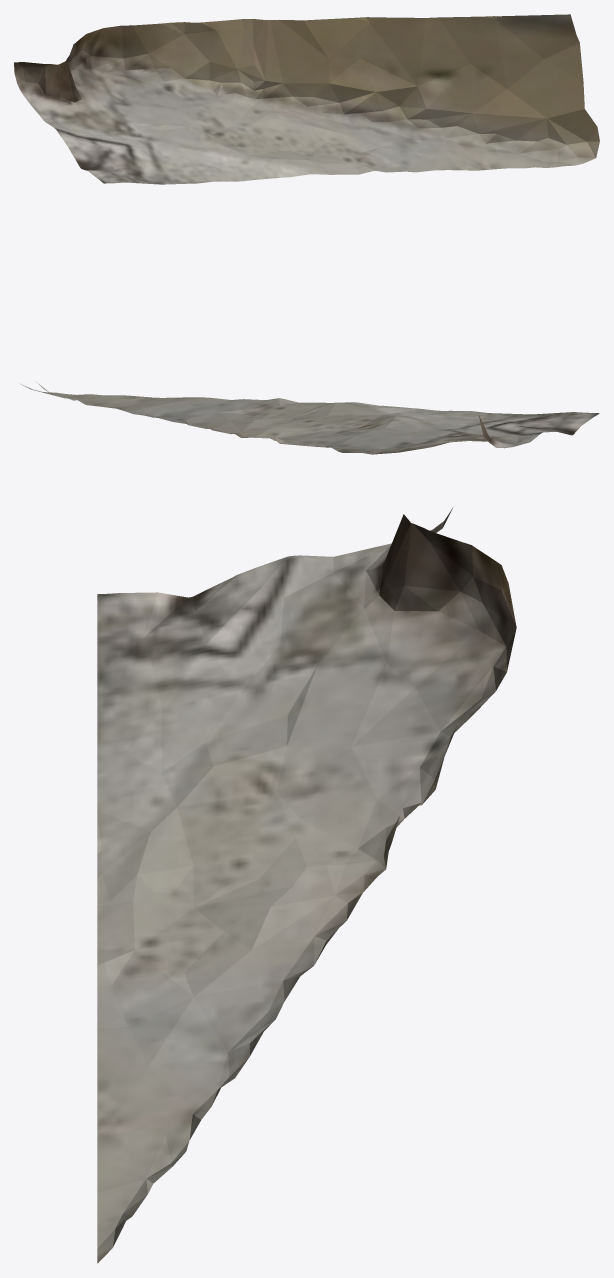
The picture shows the model from 3 angles, top to bottom: view 1: azimuth 30°, elevation 25°; view 2: azimuth 150°, elevation 25°; view 3: azimuth 270°, elevation 25°; orthographic projection. The views are drawn at different scales.
Size of the model in its own units: 1.24 by 0.3628 by 0.4523.
Materials: 1 (1 with a texture image).
